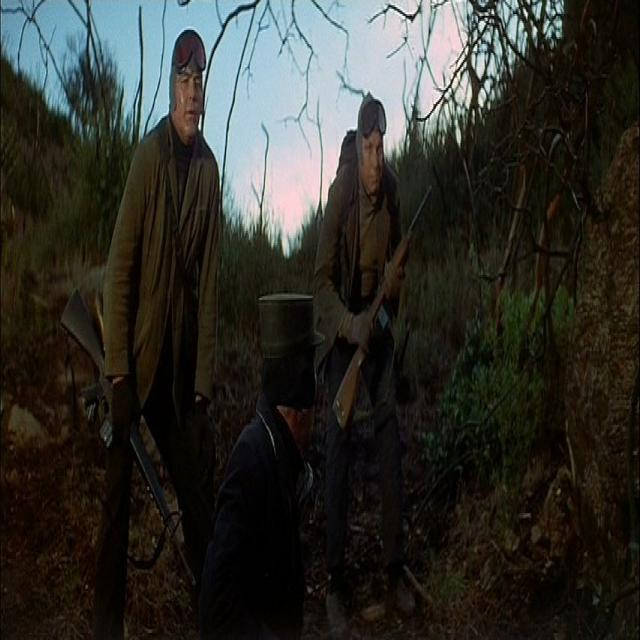gun-knife-thesis - v11 Yolov5 augmented: (59, 284, 195, 598), (331, 174, 430, 430)
